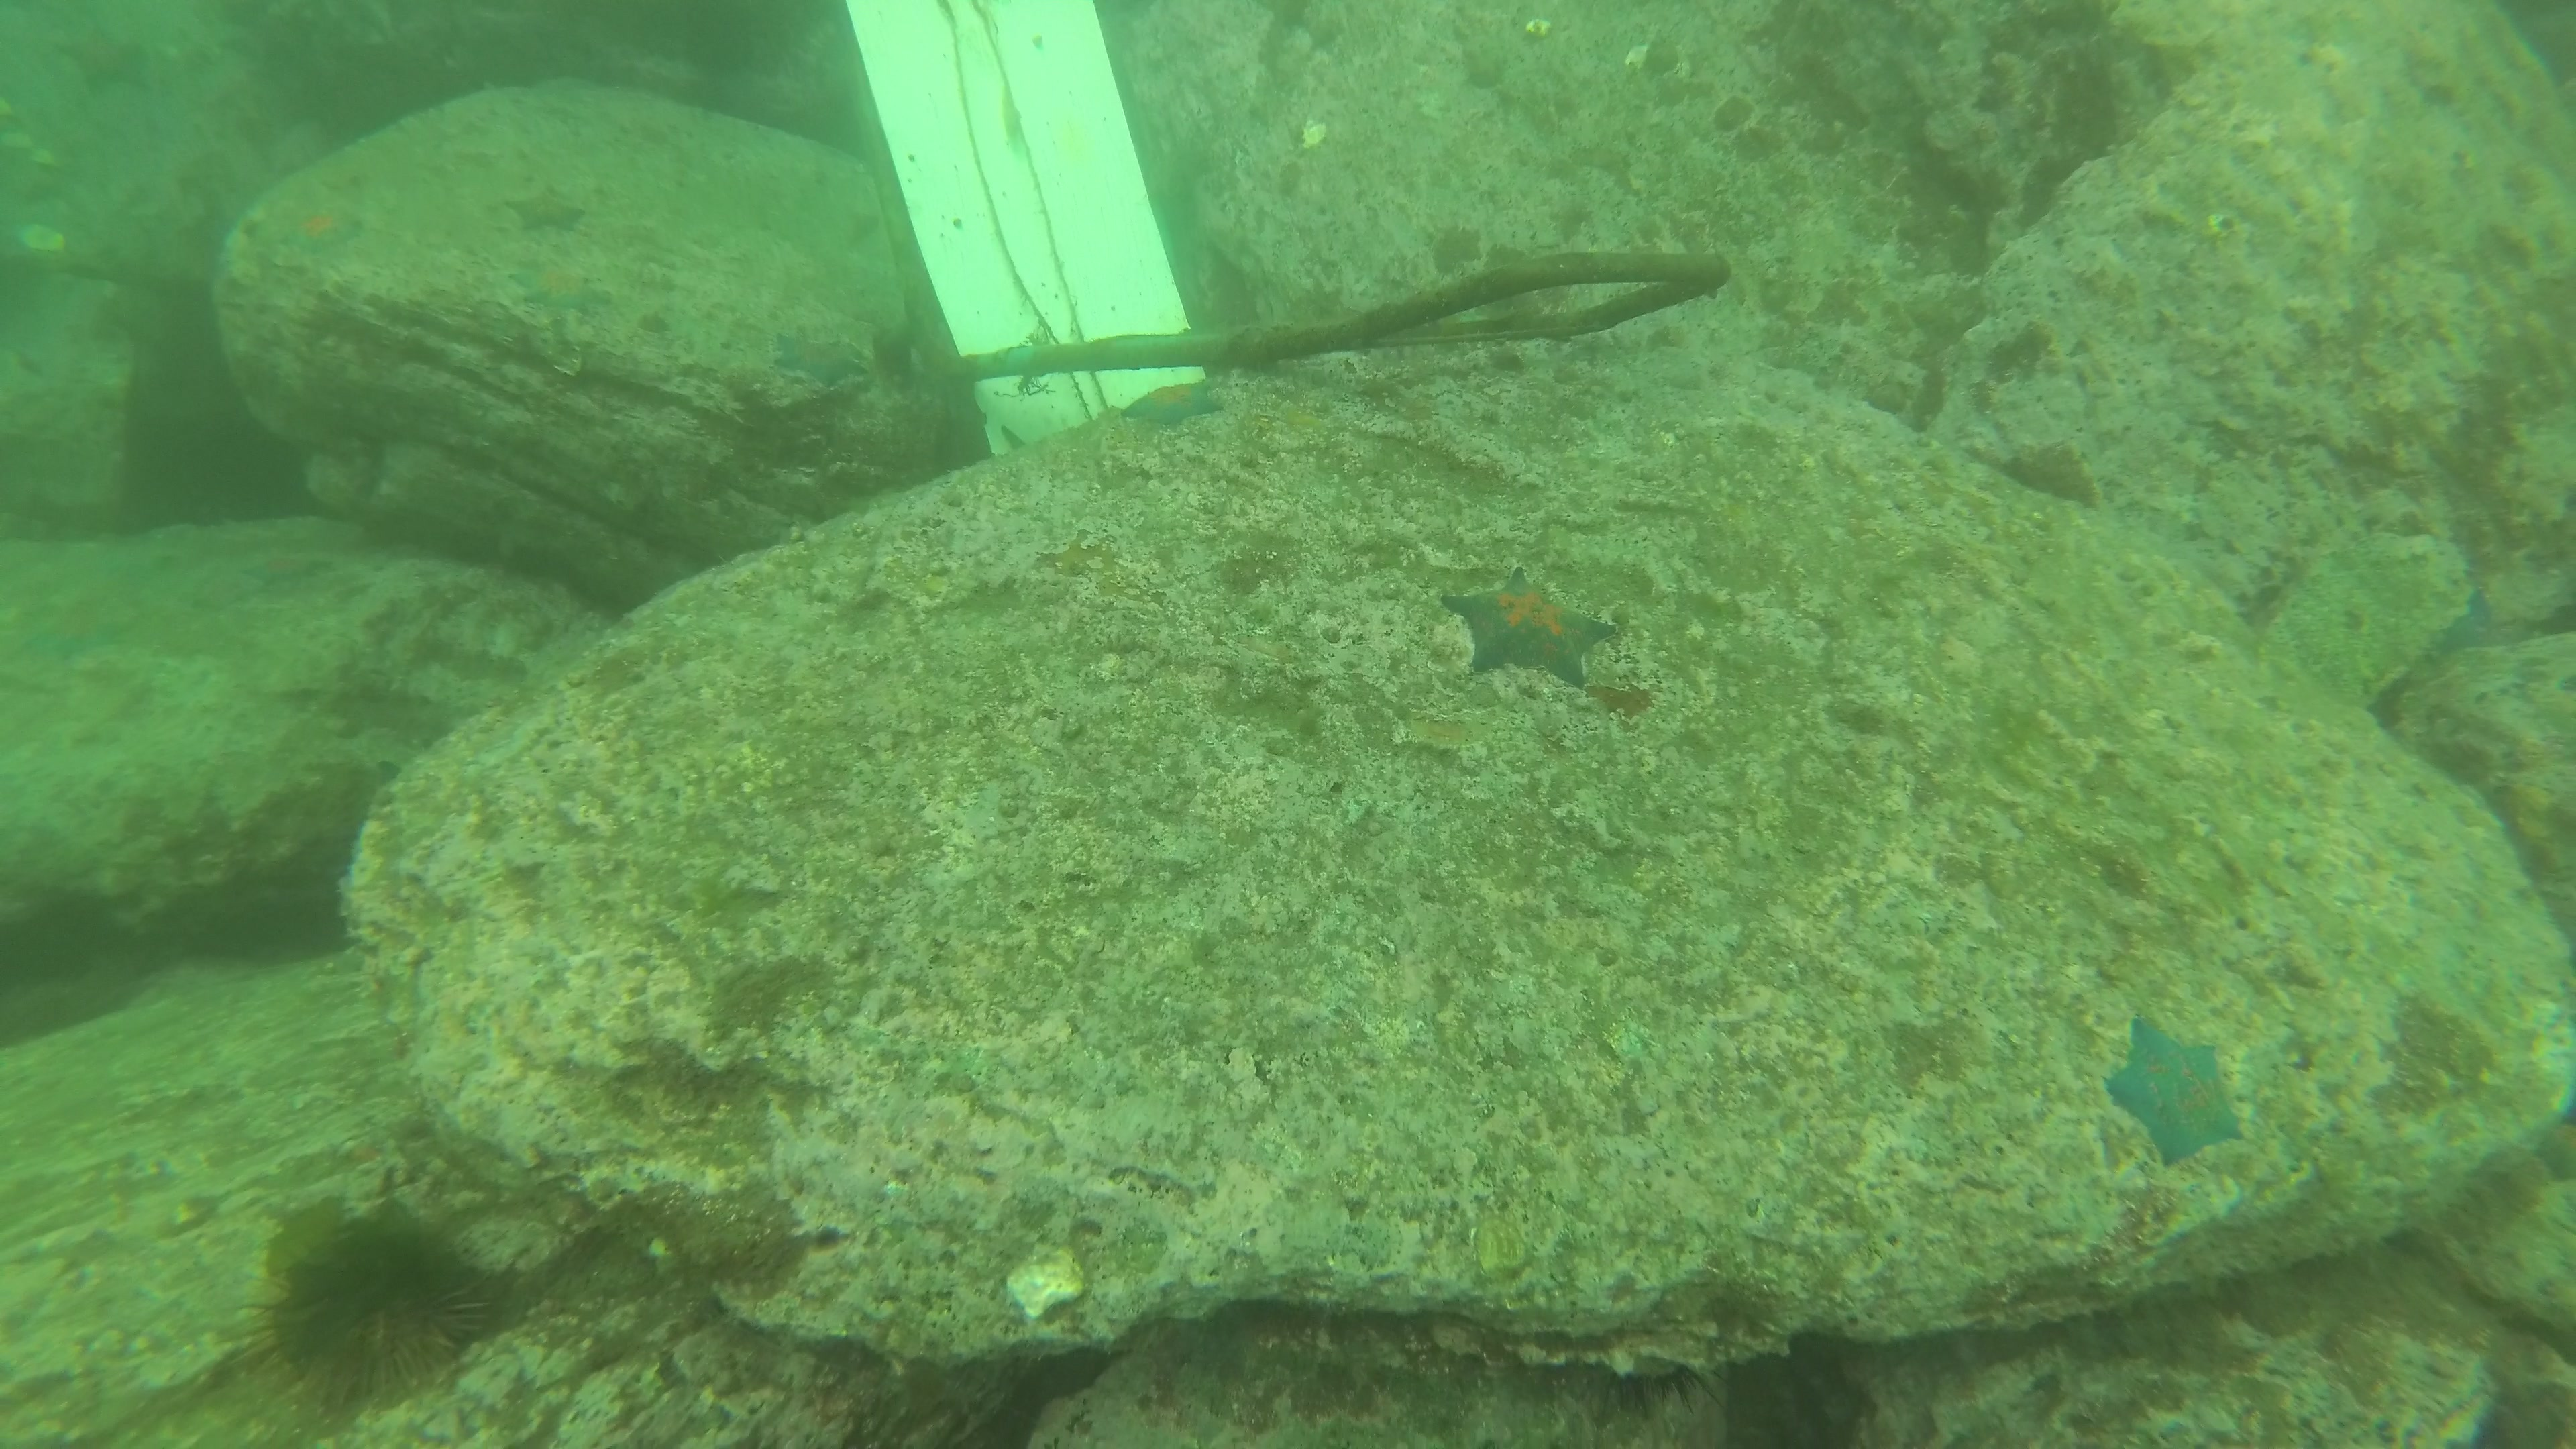echinus: (228, 1221, 490, 1410), (1568, 1267, 1729, 1419)
starfish: (1440, 568, 1617, 688), (2109, 1019, 2245, 1171), (773, 333, 869, 386), (1123, 380, 1223, 428), (508, 271, 609, 315), (276, 218, 364, 257), (504, 195, 586, 234)
